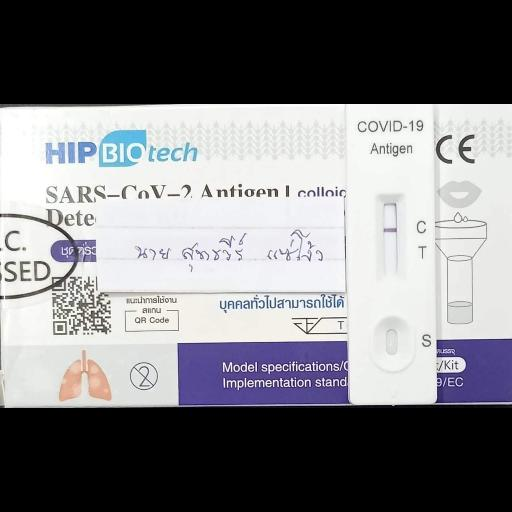Neg: (346, 104, 434, 402)
